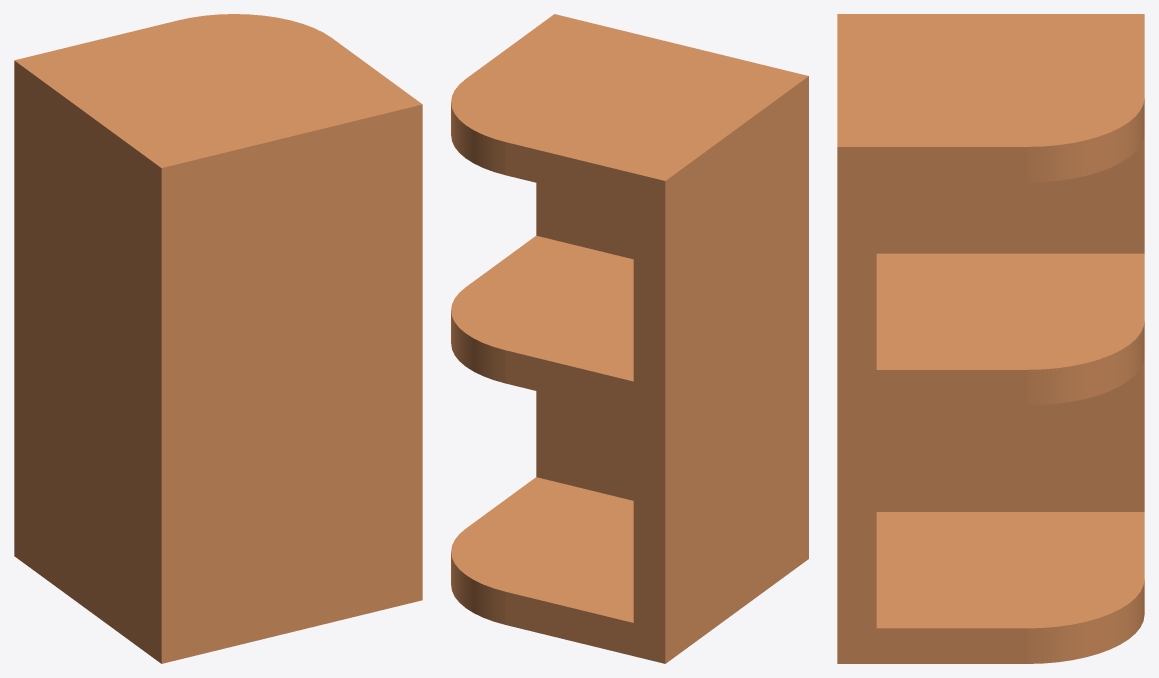
Rendered from KitchenCabinetUpperCorner.glb.
3 views of the same model, side by side, from view 1: azimuth 30°, elevation 25°; view 2: azimuth 150°, elevation 25°; view 3: azimuth 270°, elevation 25° (orthographic). The views are drawn at different scales.
Parts seen in each view (by area): view 1: KitchenCabinetUpperCorner; view 2: KitchenCabinetUpperCorner; view 3: KitchenCabinetUpperCorner.
Part boxes in pixels (box(x1,y1,x2,y2)): KitchenCabinetUpperCorner: box(14, 14, 422, 663); KitchenCabinetUpperCorner: box(451, 14, 808, 663); KitchenCabinetUpperCorner: box(837, 14, 1144, 663).
Bounding box in the file's own units: 0.4972 × 0.902 × 0.4857.
